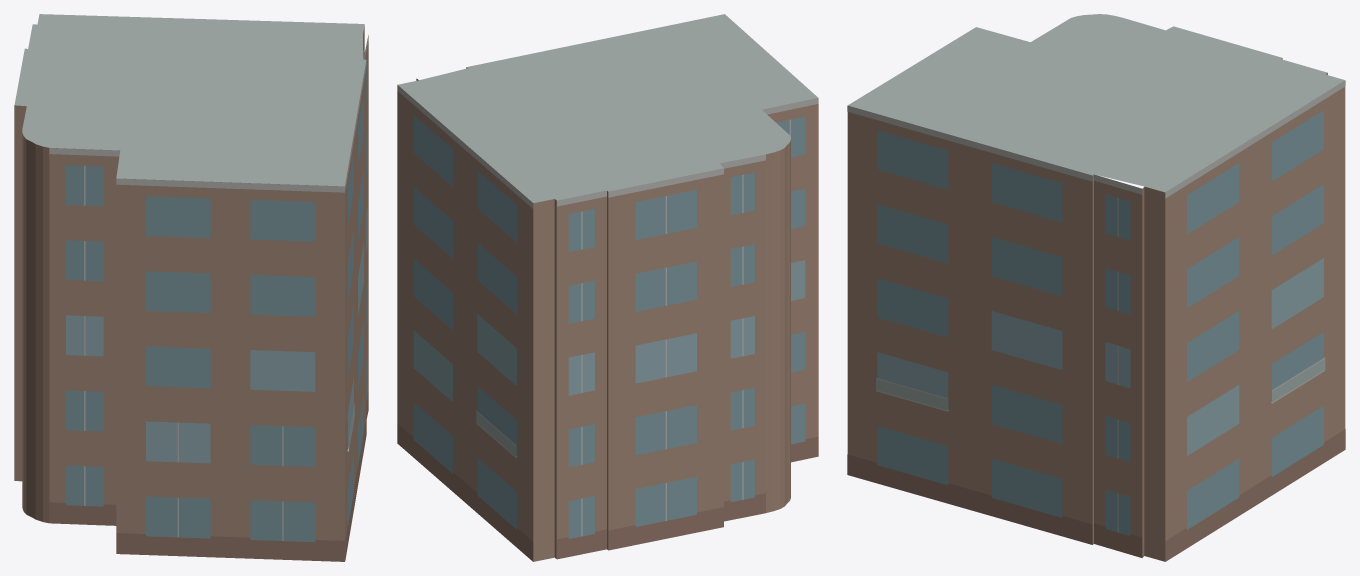
The model's file is survey-upis-32978931.glb.
3 views of the same model, side by side, from view 1: azimuth 30°, elevation 25°; view 2: azimuth 150°, elevation 25°; view 3: azimuth 270°, elevation 25° (orthographic). The views are drawn at different scales.
Parts seen in each view (by area): view 1: survey-upis-32978931.tmp; view 2: survey-upis-32978931.tmp; view 3: survey-upis-32978931.tmp.
Boxes of the visible parts, x1,y1,x2,y2 form: survey-upis-32978931.tmp: [14, 14, 368, 561]; survey-upis-32978931.tmp: [397, 14, 818, 561]; survey-upis-32978931.tmp: [847, 14, 1345, 561].
Size of the model in its own units: 15.18 by 14.65 by 17.9.
